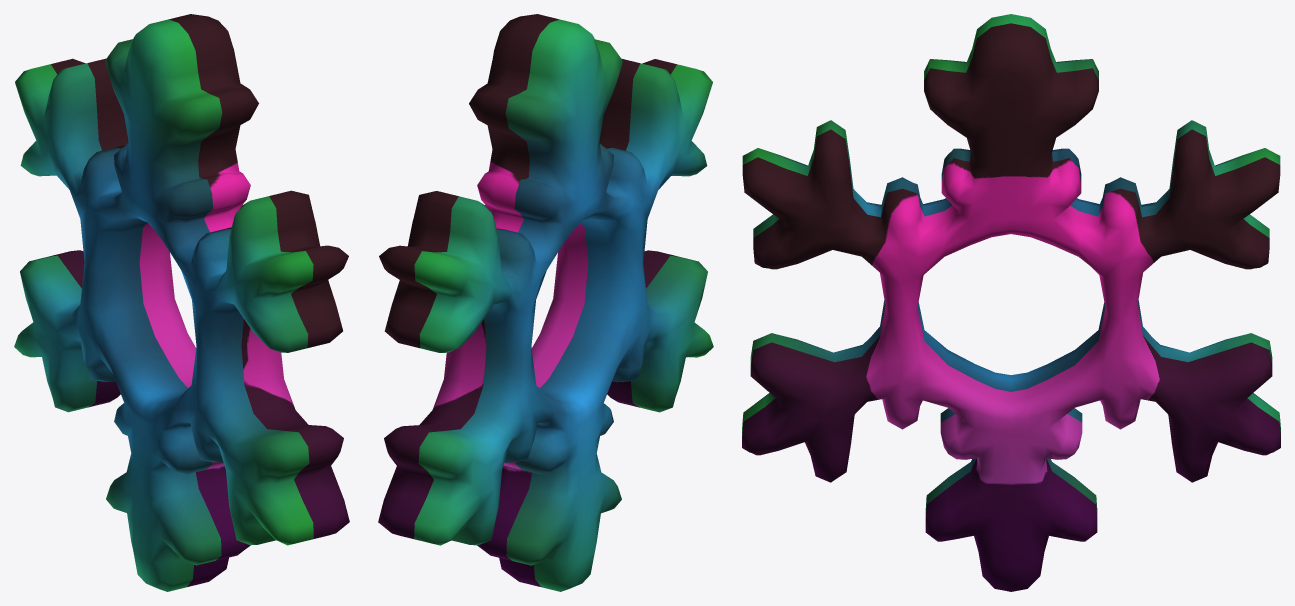
The model's file is snowflake_hole_done1.fbx.
The picture shows the model from 3 angles, left to right: view 1: azimuth 30°, elevation 25°; view 2: azimuth 150°, elevation 25°; view 3: azimuth 270°, elevation 25°; orthographic projection.
Visible parts, largest first — view 1: pCube3; view 2: pCube3; view 3: pCube3.
Part boxes in pixels (x1=…): pCube3: x1=14, y1=14, x2=349, y2=591; pCube3: x1=378, y1=14, x2=713, y2=591; pCube3: x1=742, y1=14, x2=1280, y2=591.
Size of the model in its own units: 2 by 12.97 by 11.35.
